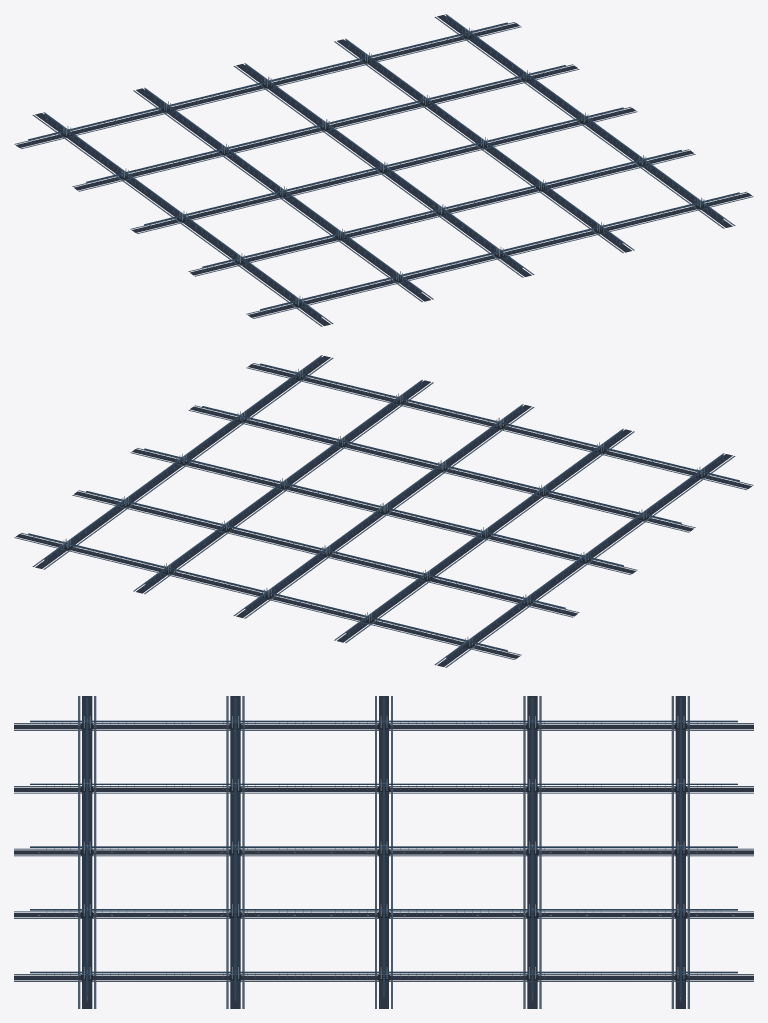
File: chunk-campus-inter-sector.detailed.glb
3 renders of one model, top to bottom at view 1: azimuth 30°, elevation 25°; view 2: azimuth 150°, elevation 25°; view 3: azimuth 270°, elevation 25°, orthographic. The views are drawn at different scales.
Visible parts, largest first — view 1: dtmesh:0:1 (×3), dtmesh:0:0 (×3); view 2: dtmesh:0:1 (×3), dtmesh:0:0 (×3); view 3: dtmesh:0:1 (×3), dtmesh:0:0 (×3).
Boxes of the visible parts, x1,y1,x2,y2 form: dtmesh:0:1 (×3): [14, 14, 753, 326]; dtmesh:0:0 (×3): [28, 15, 739, 320]; dtmesh:0:1 (×3): [14, 355, 753, 667]; dtmesh:0:0 (×3): [28, 356, 739, 661]; dtmesh:0:1 (×3): [14, 696, 753, 1008]; dtmesh:0:0 (×3): [30, 697, 737, 1001].
Size of the model in its own units: 1296 by 18.4 by 1296.
